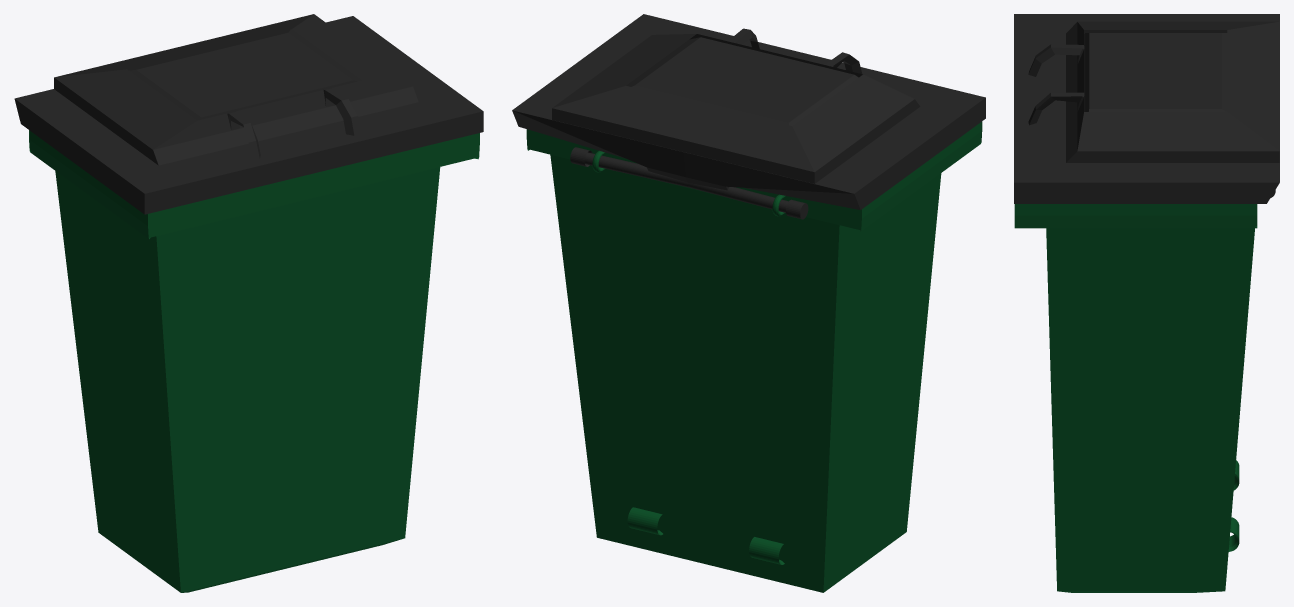
The model's file is thung rac.fbx.
The picture shows the model from 3 angles, left to right: view 1: azimuth 30°, elevation 25°; view 2: azimuth 150°, elevation 25°; view 3: azimuth 270°, elevation 25°; orthographic projection. The views are drawn at different scales.
Visible parts, largest first — view 1: Torus.001, Plane.002; view 2: Torus.001, Plane.002; view 3: Torus.001, Plane.002.
Part boxes in pixels (<box>): Torus.001: <box>29,130,479,592</box>; Plane.002: <box>14,14,483,214</box>; Torus.001: <box>526,121,982,592</box>; Plane.002: <box>512,14,985,219</box>; Torus.001: <box>1014,204,1257,592</box>; Plane.002: <box>1014,14,1279,203</box>.
Bounding box in the file's own units: 89.97 × 118 × 59.95.
